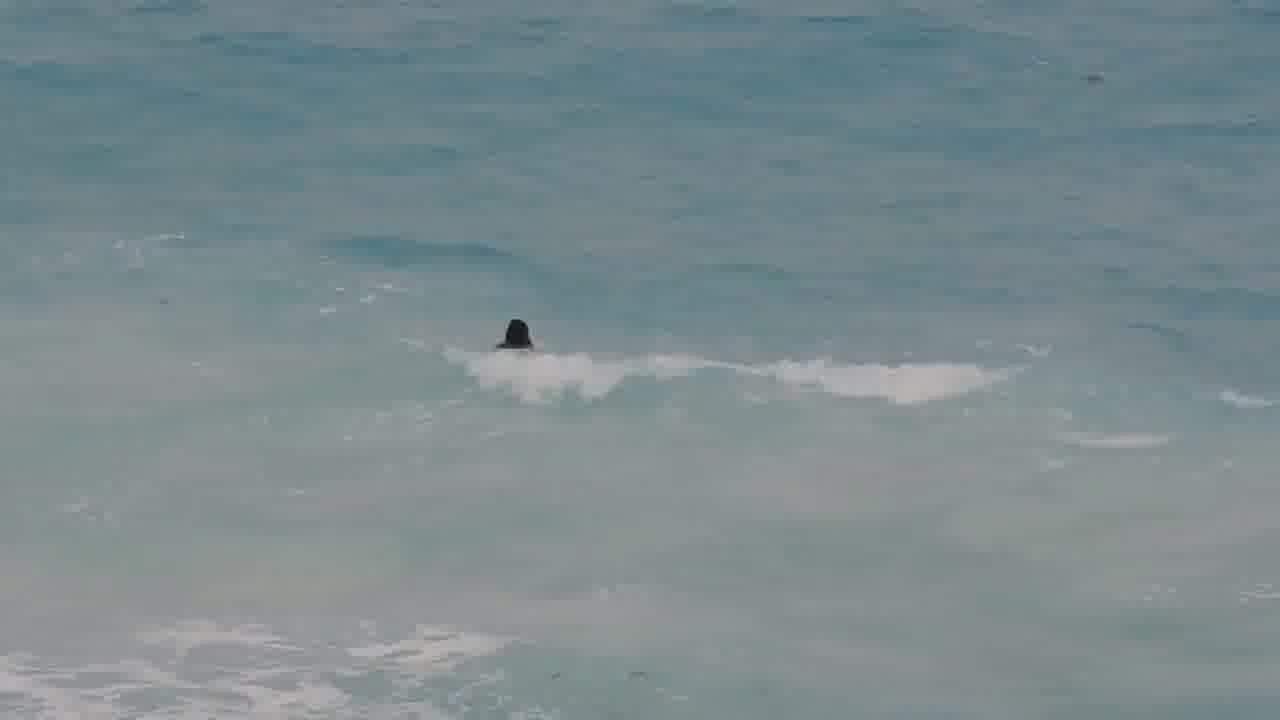human: (490, 317, 549, 347)
